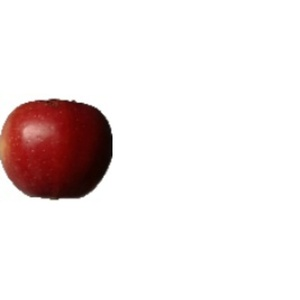maçã braeburn: (3, 98, 114, 202)
